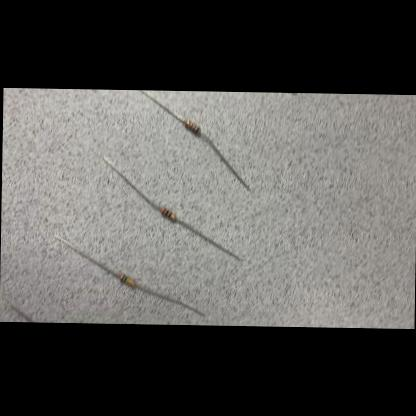resistor: (182, 119, 199, 134), (117, 273, 134, 286), (159, 208, 175, 221)
wire: (100, 156, 159, 209), (199, 132, 249, 190), (51, 234, 117, 276), (176, 218, 242, 260), (133, 284, 204, 316), (138, 90, 183, 120), (9, 304, 33, 322)
